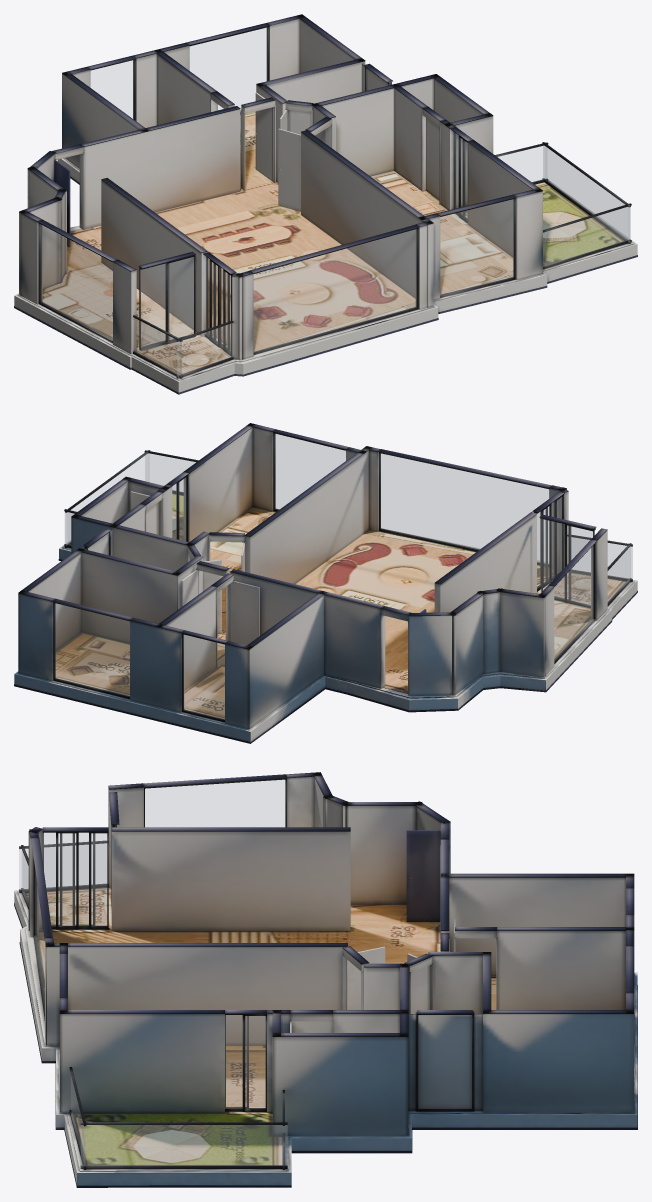
3 renders of one model, top to bottom at view 1: azimuth 30°, elevation 25°; view 2: azimuth 150°, elevation 25°; view 3: azimuth 270°, elevation 25°, orthographic. The views are drawn at different scales.
Visible parts, largest first — view 1: plan, glass5_m, glass4_m, glass6_m, glass1_m, glass7_m, railg4_m, railg3_m, railg0_m, glass0_m, railg1_m, glass8_m (+2 smaller); view 2: plan, glass5_m, glass1_m, glass0_m, glass4_m, glass7_m, glass6_m, glass8_m, railg4_m, railg3_m, railg0_m, railg1_m (+1 smaller); view 3: plan, railg3_m, glass6_m, glass8_m, glass2_m, glass3_m, railg1_m, glass5_m.
Part boxes in pixels (x1=…): plan: x1=14, y1=14, x2=637, y2=394; glass5_m: x1=254, y1=229, x2=416, y2=351; glass4_m: x1=440, y1=199, x2=513, y2=294; glass6_m: x1=41, y1=225, x2=112, y2=339; glass1_m: x1=190, y1=28, x2=267, y2=109; glass7_m: x1=140, y1=257, x2=193, y2=347; railg4_m: x1=543, y1=207, x2=630, y2=266; railg3_m: x1=543, y1=146, x2=629, y2=241; railg0_m: x1=177, y1=323, x2=231, y2=375; glass0_m: x1=91, y1=60, x2=133, y2=118; railg1_m: x1=134, y1=318, x2=181, y2=375; glass8_m: x1=206, y1=257, x2=230, y2=351; plan: x1=14, y1=423, x2=637, y2=743; glass5_m: x1=380, y1=454, x2=548, y2=562; glass1_m: x1=55, y1=603, x2=129, y2=696; glass0_m: x1=183, y1=635, x2=224, y2=719; glass4_m: x1=275, y1=434, x2=345, y2=509; glass7_m: x1=541, y1=519, x2=592, y2=604; glass6_m: x1=554, y1=545, x2=593, y2=660; glass8_m: x1=537, y1=497, x2=561, y2=588; railg4_m: x1=145, y1=453, x2=195, y2=491; railg3_m: x1=66, y1=453, x2=148, y2=545; railg0_m: x1=572, y1=537, x2=632, y2=579; railg1_m: x1=608, y1=547, x2=630, y2=602; plan: x1=14, y1=772, x2=637, y2=1187; railg3_m: x1=81, y1=1125, x2=287, y2=1165; glass6_m: x1=145, y1=780, x2=285, y2=826; glass8_m: x1=43, y1=833, x2=106, y2=925; glass2_m: x1=419, y1=1015, x2=471, y2=1108; glass3_m: x1=225, y1=1015, x2=265, y2=1108; railg1_m: x1=19, y1=844, x2=106, y2=889; glass5_m: x1=35, y1=874, x2=44, y2=1004.
Bounding box in the file's own units: 14.8 × 2.62 × 12.89.
2 materials, 1 textured.
